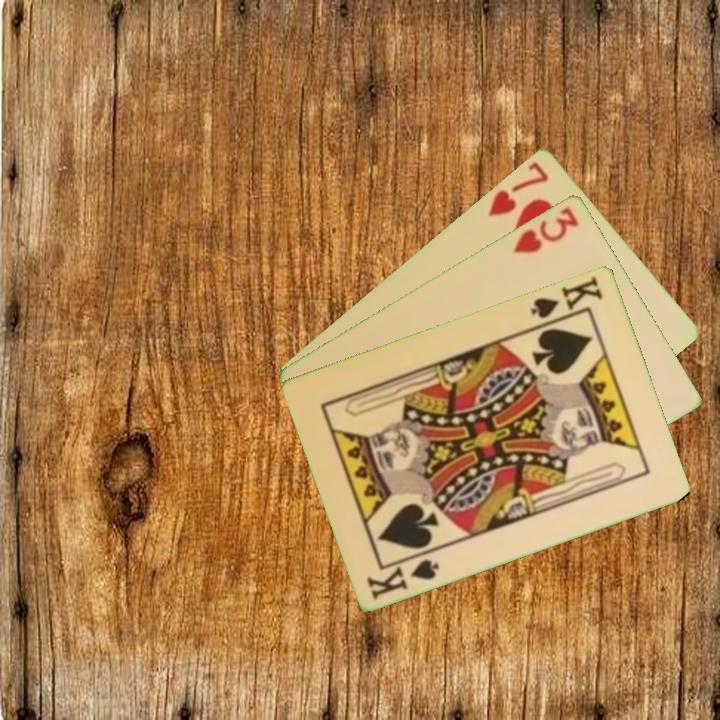3h: (510, 202, 582, 256)
7h: (484, 157, 552, 219)
Ks: (527, 271, 606, 321), (363, 554, 443, 603)
